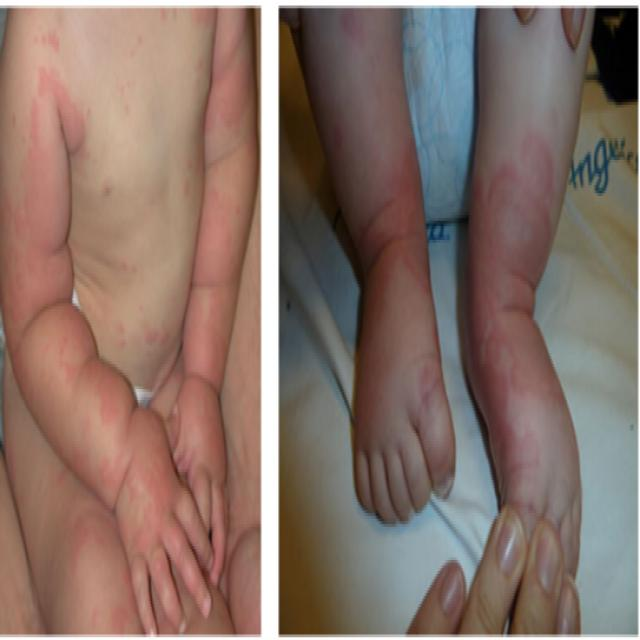hives: (1, 8, 209, 636), (328, 0, 451, 490), (176, 19, 262, 546), (462, 126, 573, 509), (51, 465, 149, 640), (101, 315, 176, 394)
